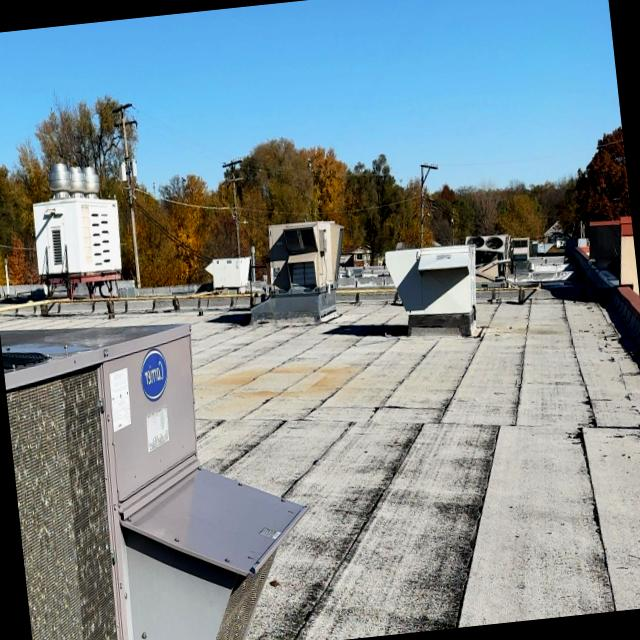GRAVITY-VENT: (46, 162, 74, 204), (66, 161, 88, 200), (82, 163, 101, 202)
RTU: (0, 282, 321, 640), (382, 238, 485, 335), (262, 213, 354, 318), (202, 250, 252, 292)
